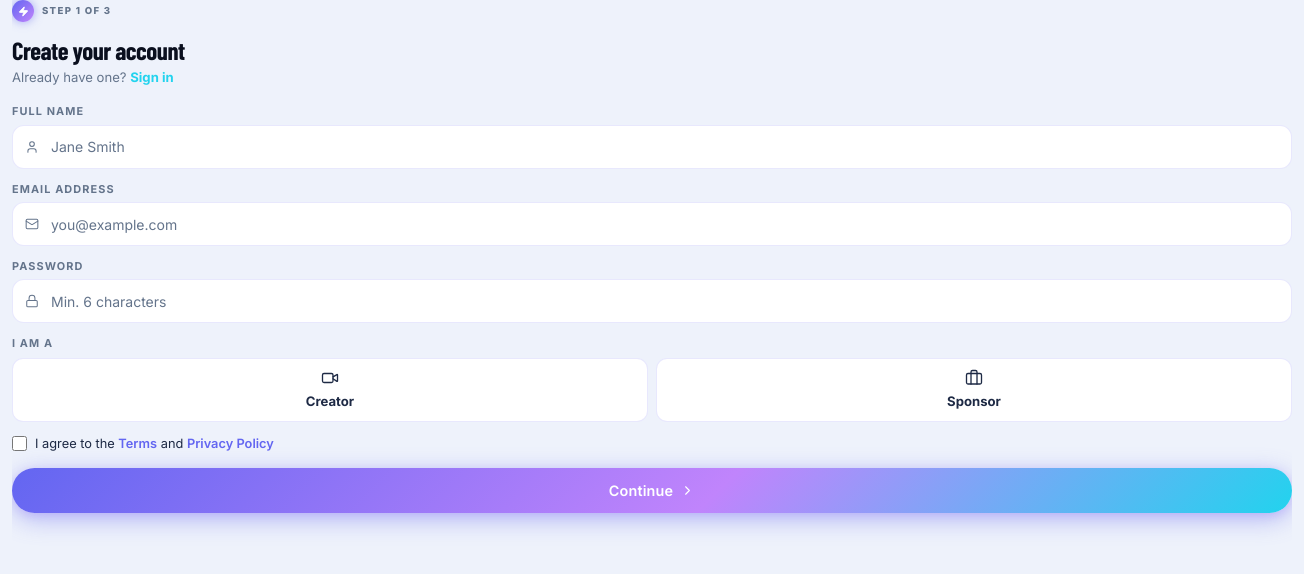
Test: SignUpStep1 › shows role error when no role selected
Type "Test" into the field with placeholder "Jane Smith" at (652, 147), box [12, 125, 1292, 169]
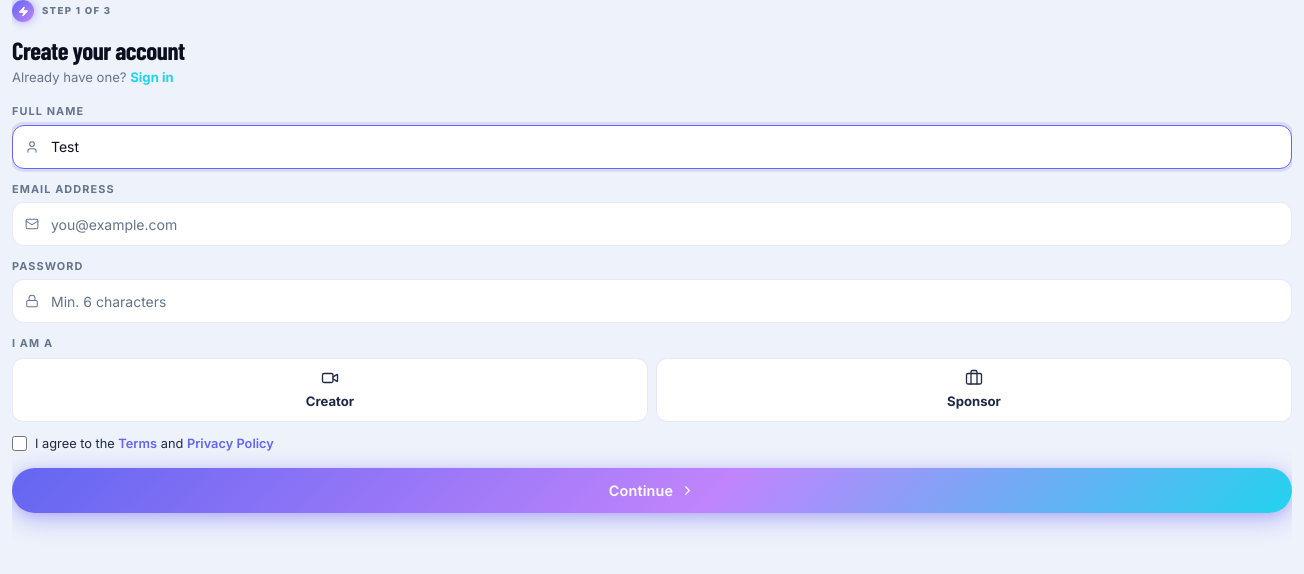
Type "a@b.com" into the field with placeholder "you@example.com" at (652, 224), box [12, 202, 1292, 246]
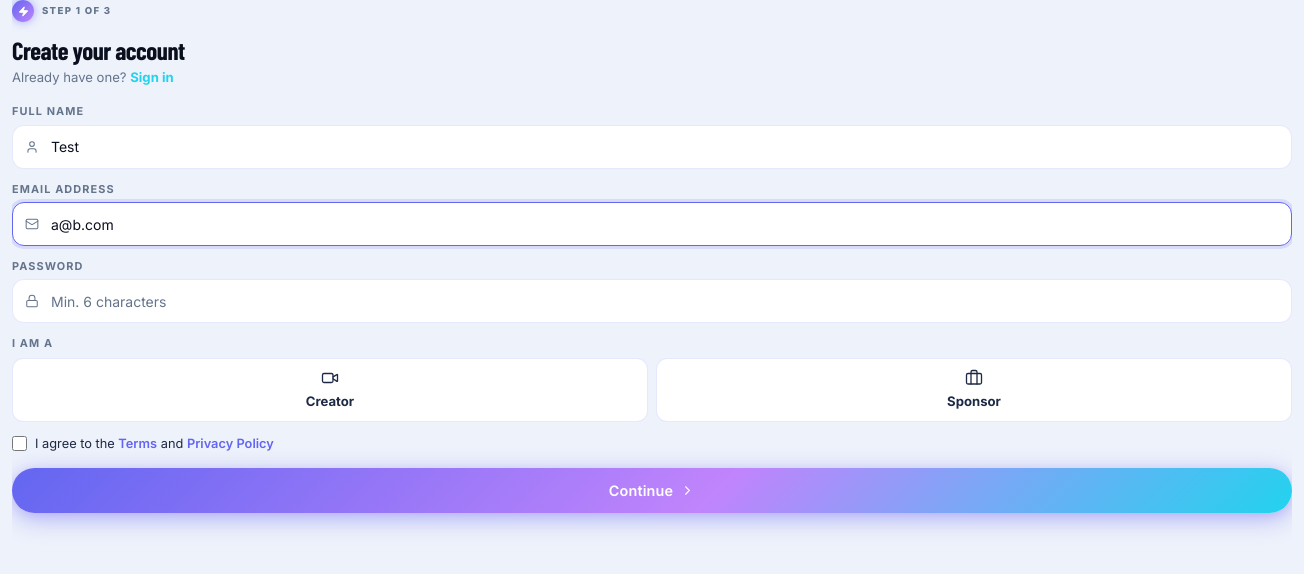
Type "pass1234" into the password field with placeholder "Min. 6 characters" at (652, 301), box [12, 279, 1292, 323]
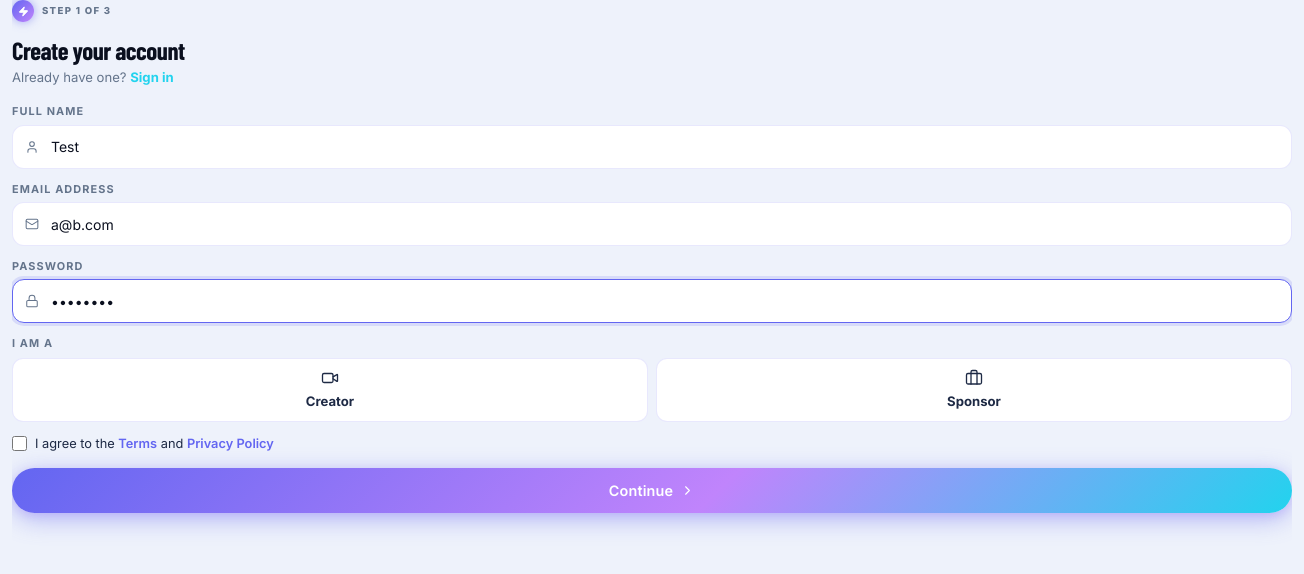
Click the checkbox at (20, 444), box [12, 436, 27, 451]
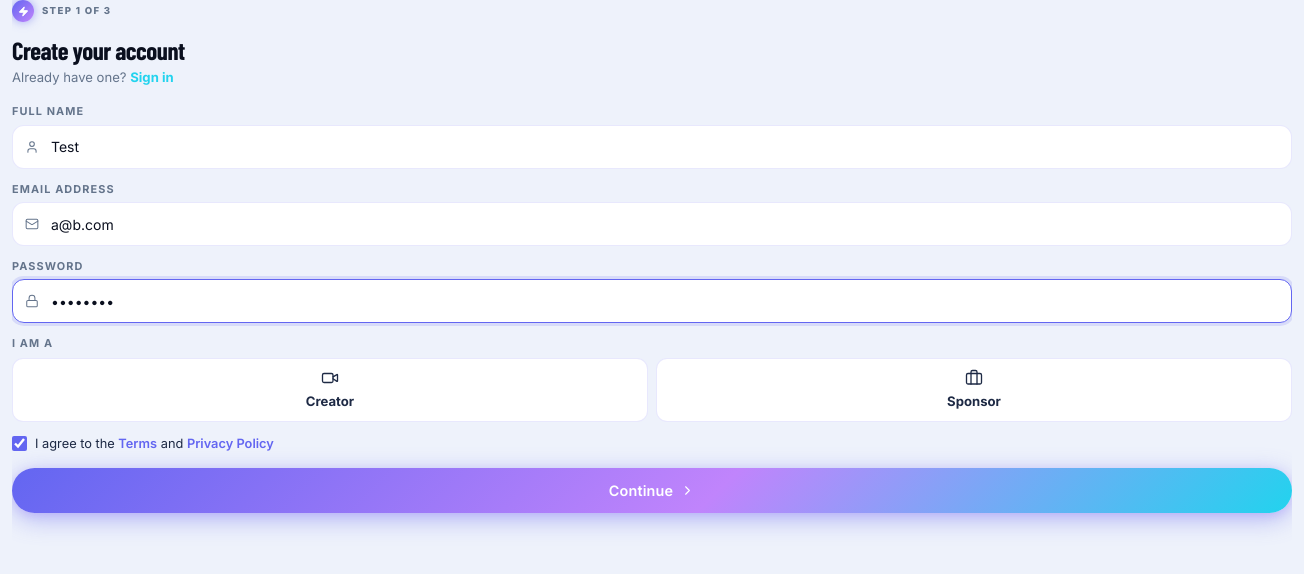
Click the button "Continue" at (652, 490), box [12, 468, 1292, 513]
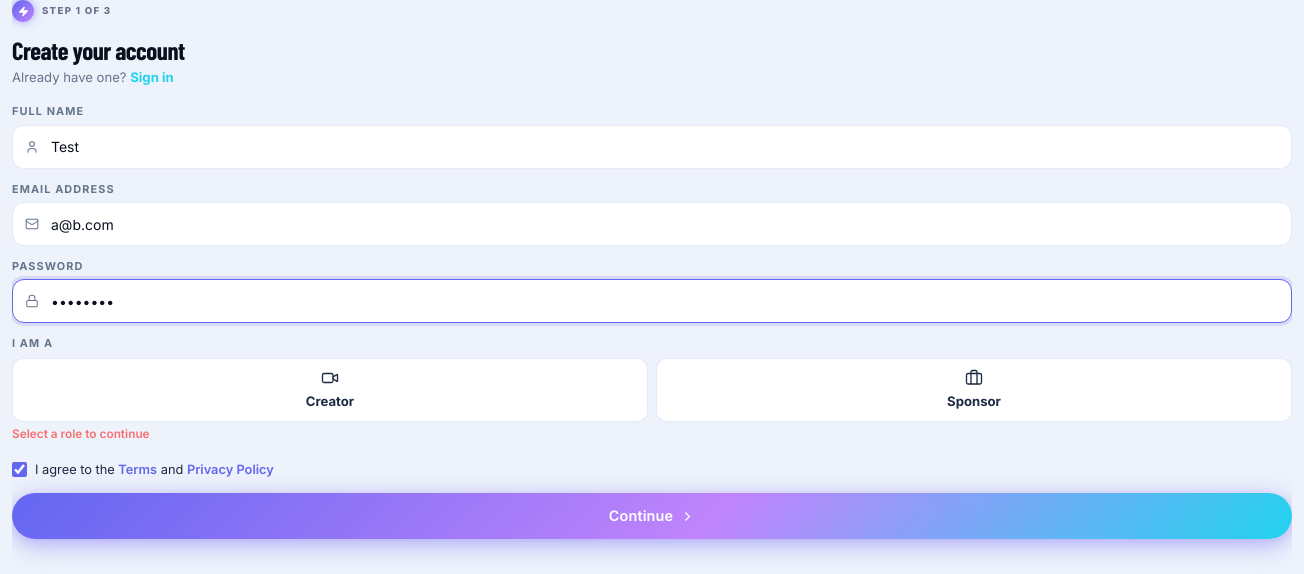
Check: the text "Select a role to continue" is shown, box [12, 427, 150, 441]
